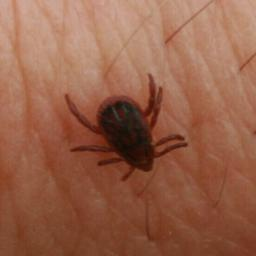Rhipicephalus sanguineus: (64, 72, 189, 184)
